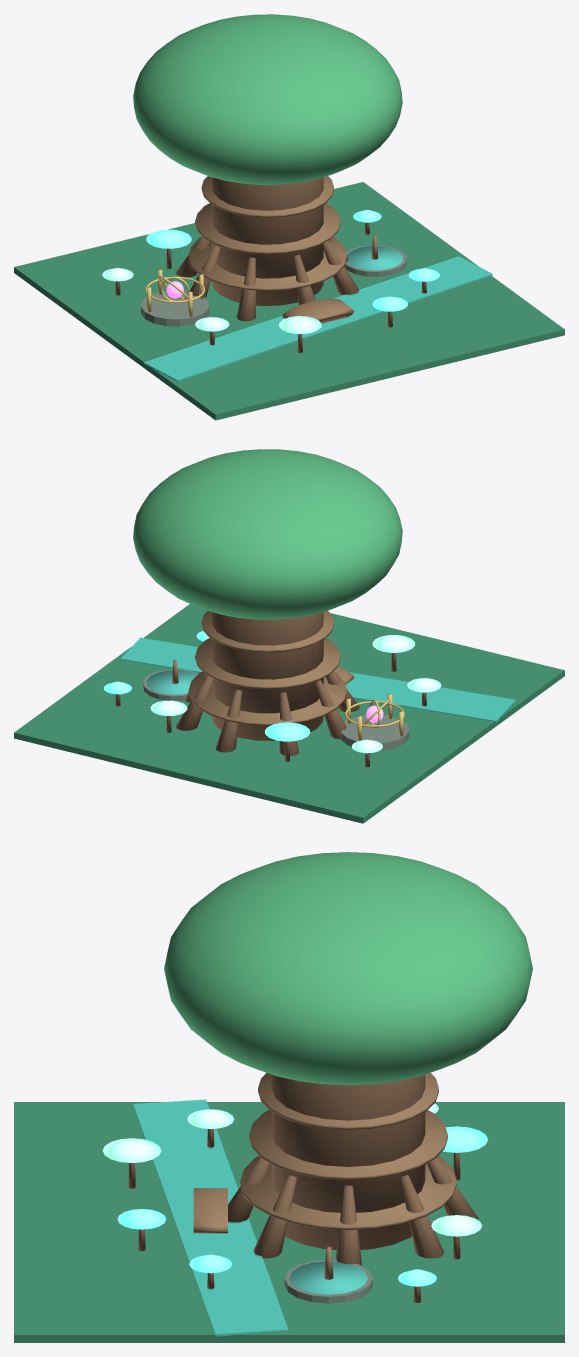
The model's file is noria_feywood.glb.
3 views of the same model, one above another, from view 1: azimuth 30°, elevation 25°; view 2: azimuth 150°, elevation 25°; view 3: azimuth 270°, elevation 25° (orthographic). The views are drawn at different scales.
Parts seen in each view (by area): view 1: Noria_MossyTerrain, Noria_MotherTreeCanopy, Noria_MotherTreeTrunk, Noria_MysticRiver, Noria_TreeWalkwayTier_1, Noria_TreeWalkwayTier_2, Noria_ChaosBase, Noria_LuthienAltarPlinth, Noria_TreeWalkwayTier_3, Noria_ArchSuspensionBridge, Noria_WaterOfLife, Noria_Root_6 (+5 smaller); view 2: Noria_MossyTerrain, Noria_MotherTreeCanopy, Noria_MotherTreeTrunk, Noria_MysticRiver, Noria_TreeWalkwayTier_1, Noria_TreeWalkwayTier_2, Noria_TreeWalkwayTier_3, Noria_ChaosBase, Noria_LuthienAltarPlinth, Noria_WaterOfLife, Noria_Root_3, Noria_Root_2 (+5 smaller); view 3: Noria_MossyTerrain, Noria_MotherTreeCanopy, Noria_MotherTreeTrunk, Noria_MysticRiver, Noria_TreeWalkwayTier_1, Noria_TreeWalkwayTier_2, Noria_LuthienAltarPlinth, Noria_TreeWalkwayTier_3, Noria_WaterOfLife, Noria_ArchSuspensionBridge, Noria_Root_2, Noria_Root_8 (+9 smaller).
Boxes of the visible parts, left/top/right/bottom form: Noria_MossyTerrain: left=14, top=182, right=564, bottom=420; Noria_MotherTreeCanopy: left=133, top=14, right=402, bottom=184; Noria_MotherTreeTrunk: left=212, top=177, right=323, bottom=305; Noria_MysticRiver: left=143, top=256, right=492, bottom=381; Noria_TreeWalkwayTier_1: left=188, top=236, right=346, bottom=290; Noria_TreeWalkwayTier_2: left=195, top=203, right=340, bottom=254; Noria_ChaosBase: left=141, top=291, right=209, bottom=326; Noria_LuthienAltarPlinth: left=345, top=245, right=406, bottom=276; Noria_TreeWalkwayTier_3: left=201, top=176, right=333, bottom=217; Noria_ArchSuspensionBridge: left=282, top=298, right=354, bottom=323; Noria_WaterOfLife: left=347, top=246, right=403, bottom=270; Noria_Root_6: left=236, top=257, right=255, bottom=321; Noria_MossyTerrain: left=14, top=604, right=564, bottom=823; Noria_MotherTreeCanopy: left=133, top=449, right=402, bottom=619; Noria_MotherTreeTrunk: left=212, top=612, right=323, bottom=740; Noria_MysticRiver: left=120, top=637, right=515, bottom=722; Noria_TreeWalkwayTier_1: left=188, top=671, right=346, bottom=725; Noria_TreeWalkwayTier_2: left=195, top=638, right=340, bottom=689; Noria_TreeWalkwayTier_3: left=201, top=611, right=333, bottom=652; Noria_ChaosBase: left=341, top=715, right=409, bottom=750; Noria_LuthienAltarPlinth: left=143, top=669, right=198, bottom=700; Noria_WaterOfLife: left=146, top=670, right=197, bottom=694; Noria_Root_3: left=216, top=689, right=241, bottom=752; Noria_Root_2: left=176, top=676, right=213, bottom=730; Noria_MossyTerrain: left=14, top=1102, right=564, bottom=1342; Noria_MotherTreeCanopy: left=164, top=852, right=532, bottom=1085; Noria_MotherTreeTrunk: left=271, top=1074, right=425, bottom=1249; Noria_MysticRiver: left=133, top=1099, right=288, bottom=1336; Noria_TreeWalkwayTier_1: left=240, top=1156, right=456, bottom=1230; Noria_TreeWalkwayTier_2: left=249, top=1110, right=447, bottom=1179; Noria_LuthienAltarPlinth: left=284, top=1259, right=372, bottom=1303; Noria_TreeWalkwayTier_3: left=258, top=1073, right=438, bottom=1129; Noria_WaterOfLife: left=289, top=1261, right=367, bottom=1294; Noria_ArchSuspensionBridge: left=193, top=1188, right=227, bottom=1233; Noria_Root_2: left=400, top=1174, right=444, bottom=1258; Noria_Root_8: left=253, top=1174, right=296, bottom=1258.
Bounding box in the file's own units: 56.49 × 40.05 × 56.
